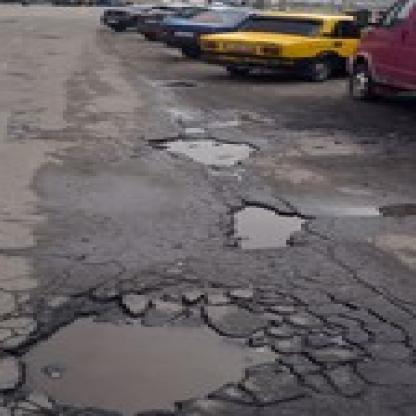pothole: (0, 304, 290, 416), (227, 199, 312, 256), (152, 135, 260, 169)
